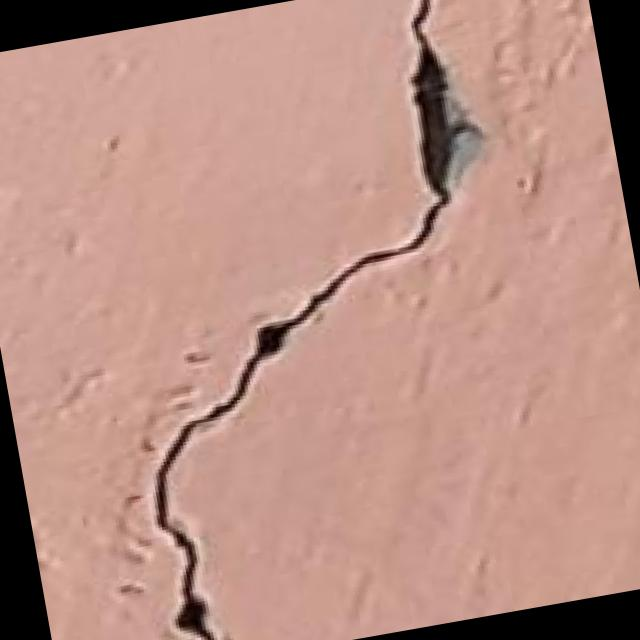crack: (44, 0, 589, 640)
